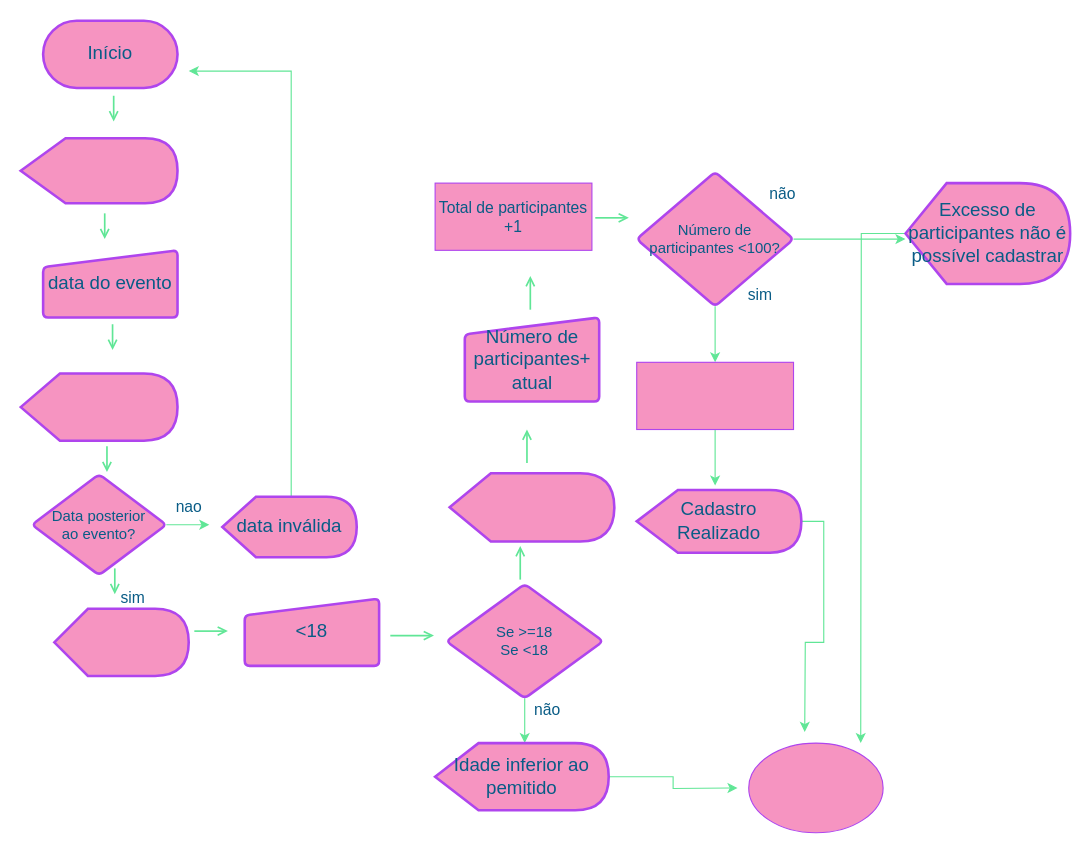
Image size: 1091x852. Some labels were removed from this diagram. Each missing label, with the centre of its shape:
"data do evento informada" belongs at (98,407).
"Fim" belongs at (815,787).
"Informe a data do evento:" belongs at (98,170).
"Informe Idade" belongs at (121,642).
"Listar participantes" belongs at (531,506).
"Salvar cadastro" belongs at (715,395).
